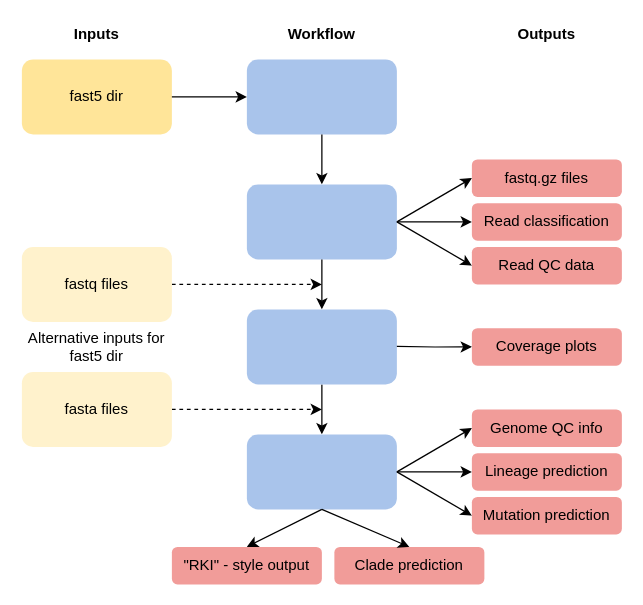
Image size: 643x605. Some labels were removed from this diagram. The shapes that lost their labels are listed below. From the top down, each one's box as (x1, y1, x2, y2) in pixels, then its label:
(246, 59, 396, 134): Basecalling (guppy)
(246, 184, 396, 259): Demultiplexing (guppy)
(246, 309, 396, 384): Genome reconstruction (ARTIC - medaka)
(246, 434, 396, 509): Genome analysis
